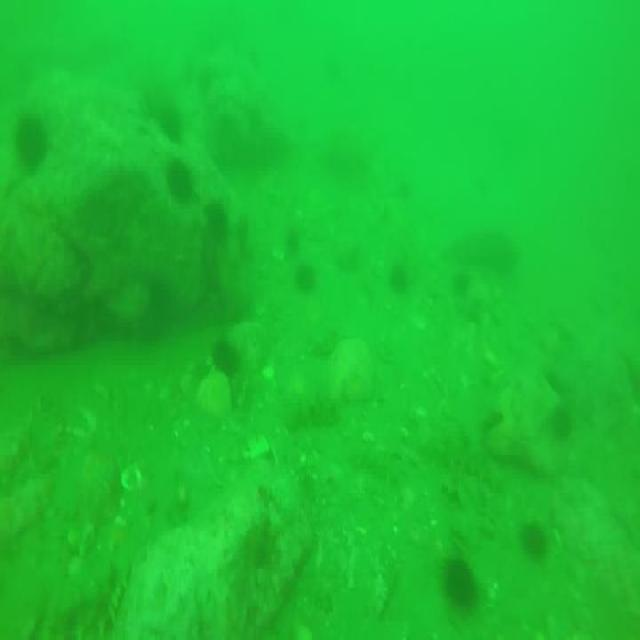echinus: (441, 554, 478, 604), (18, 112, 50, 166), (524, 515, 550, 563), (212, 334, 236, 379), (153, 104, 183, 138), (208, 193, 228, 242), (170, 163, 191, 207), (554, 403, 578, 441), (297, 260, 314, 288), (454, 265, 470, 294), (392, 258, 405, 292)
holothurian: (44, 548, 134, 640), (426, 422, 506, 498), (350, 447, 404, 485), (281, 395, 341, 428)
scallop: (120, 461, 140, 490)
